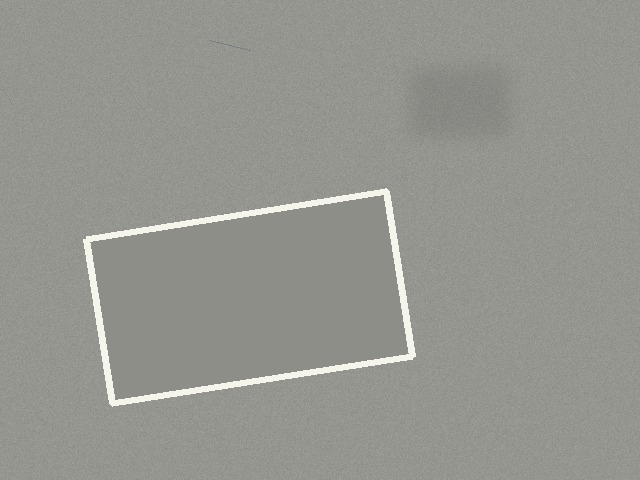parking_area: (86, 191, 412, 403)
